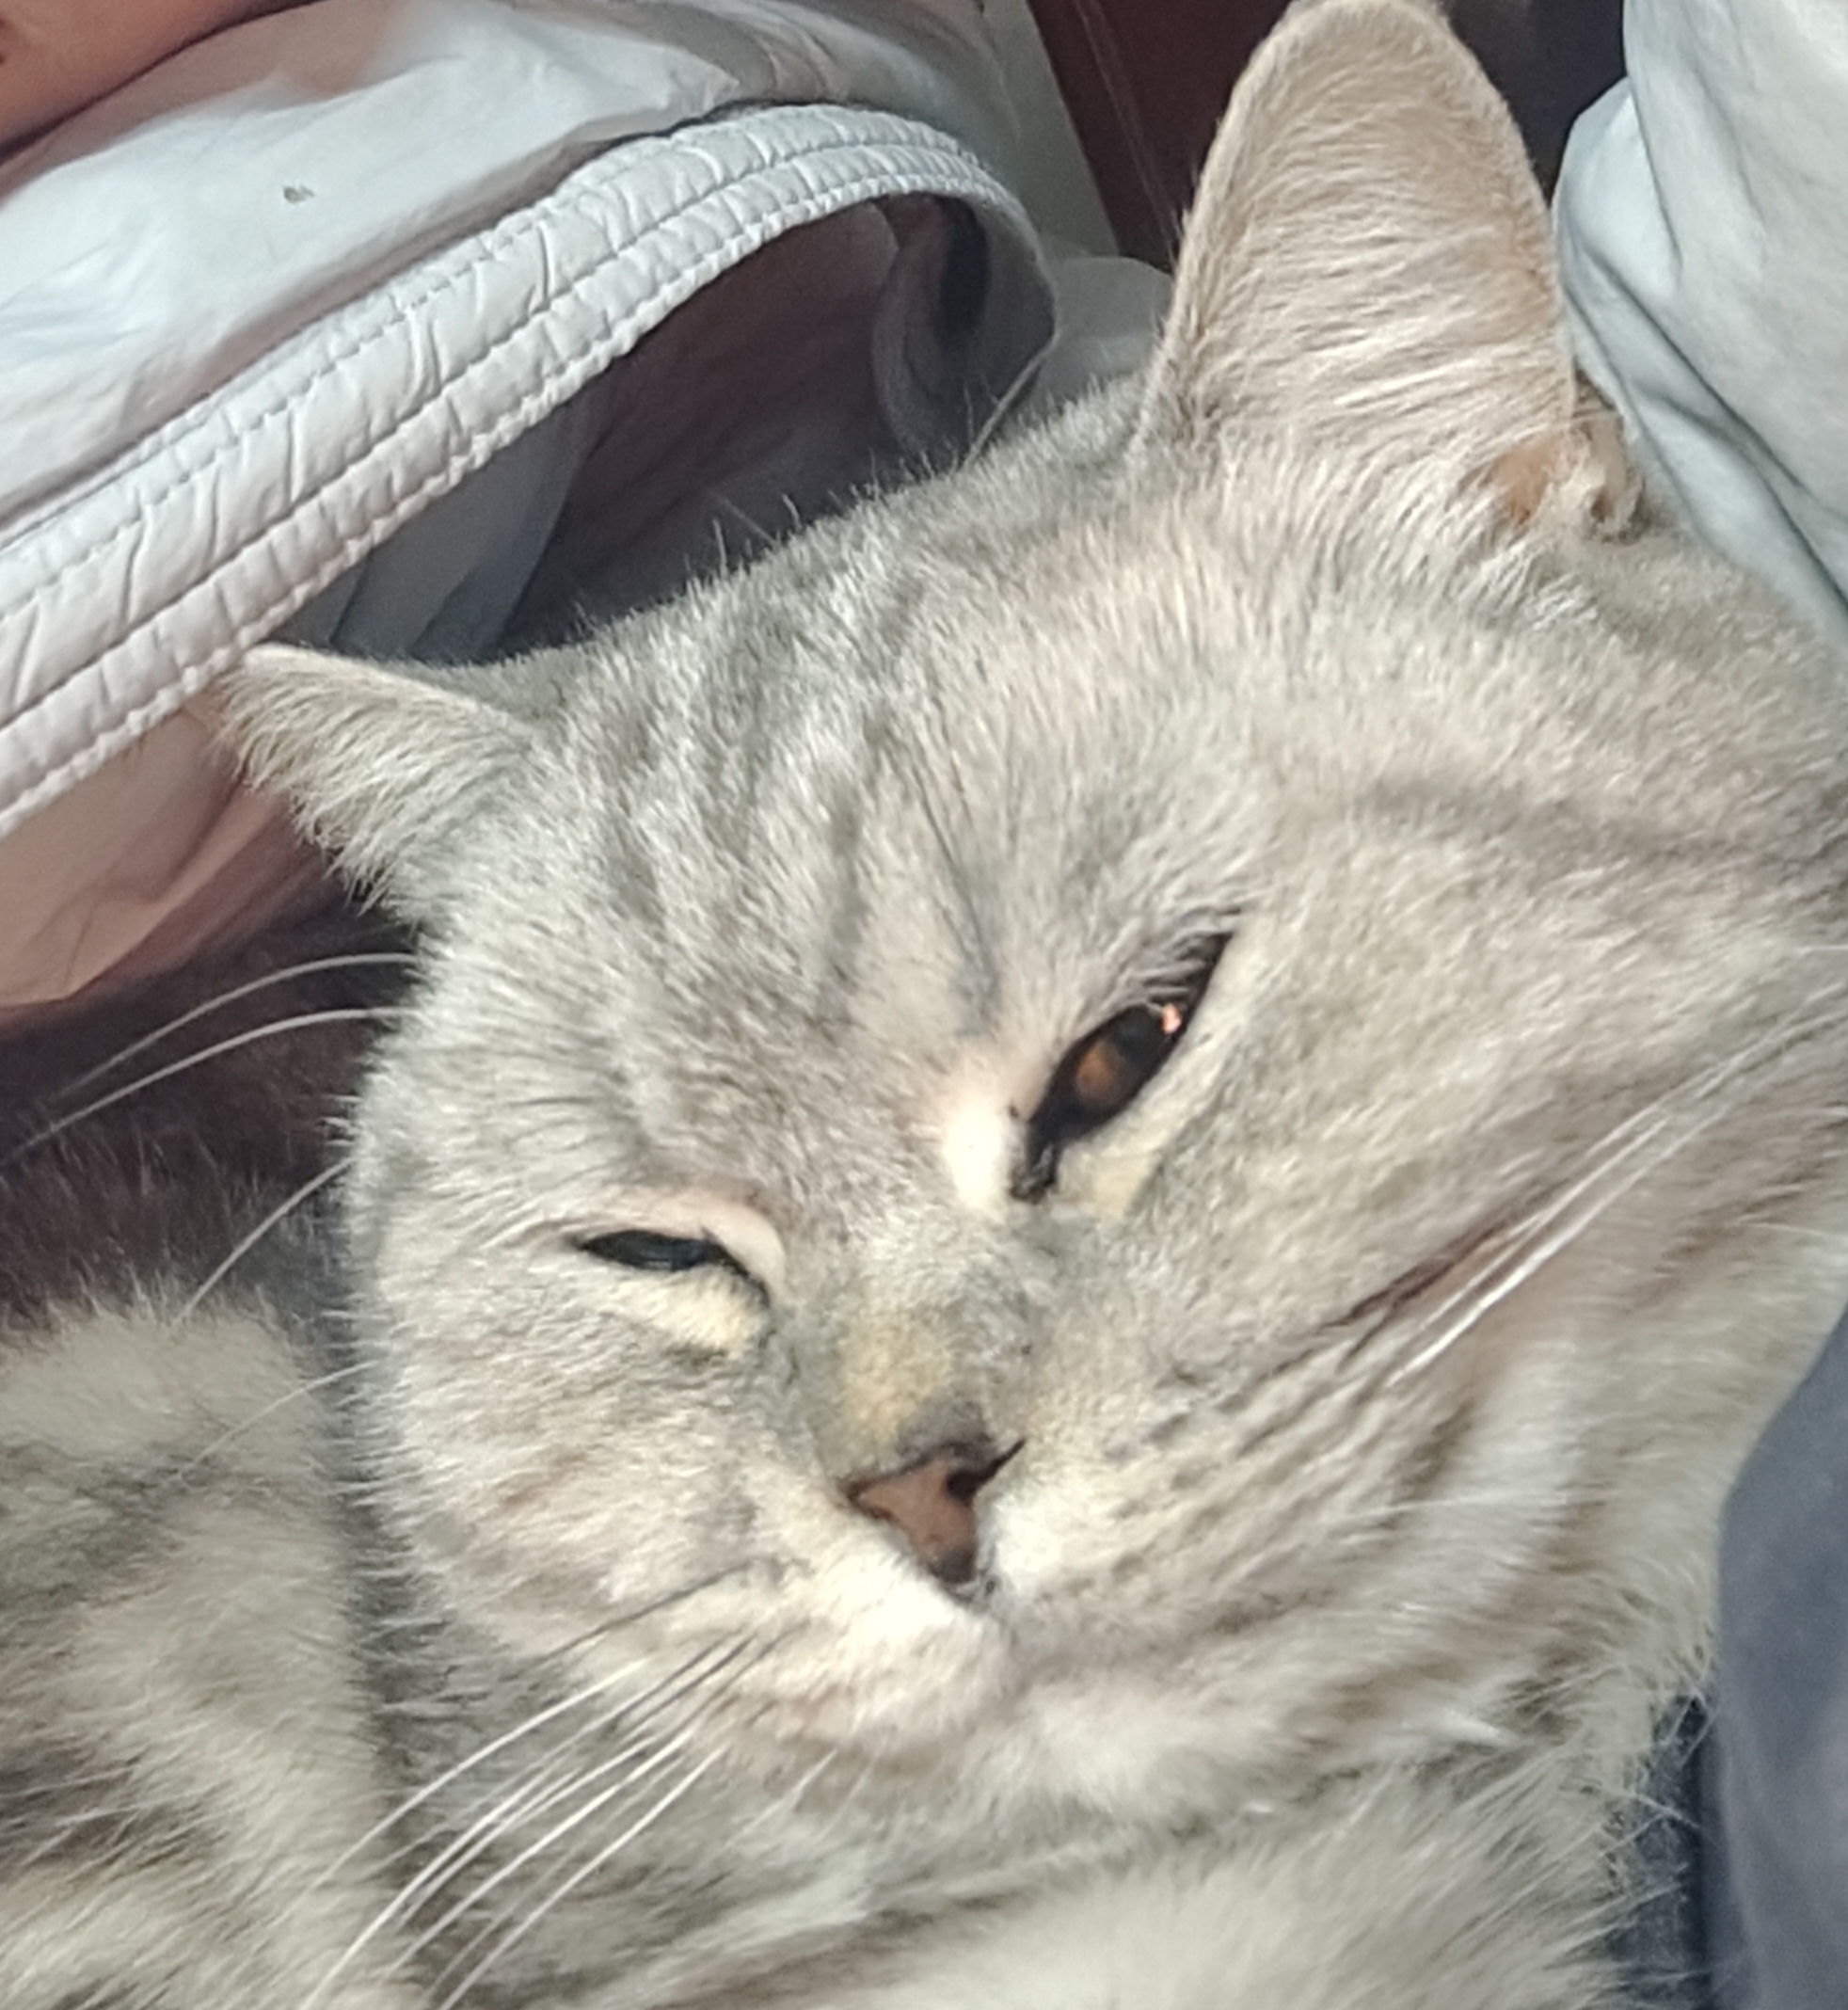white: (341, 546, 1769, 1966)
